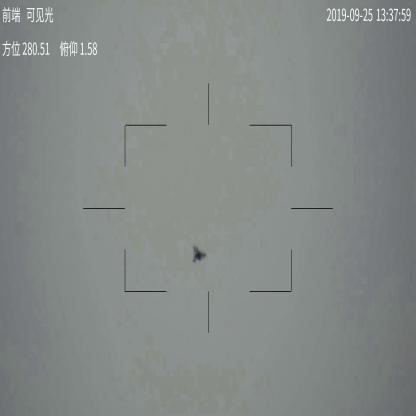uav: (191, 240, 209, 269)
